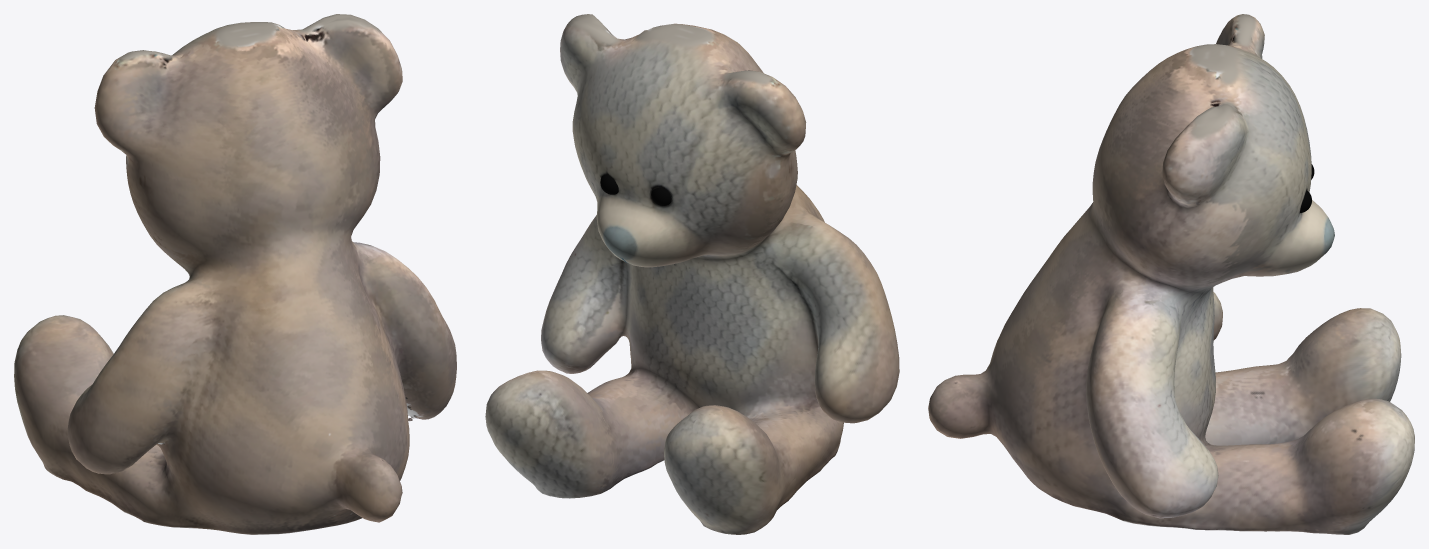
Rendered from teddy.glb.
3 renders of one model, left to right at view 1: azimuth 30°, elevation 25°; view 2: azimuth 150°, elevation 25°; view 3: azimuth 270°, elevation 25°, orthographic. The views are drawn at different scales.
Visible parts, largest first — view 1: scandy_pro_2020_07_02_t19_56_53_081_z1_2; view 2: scandy_pro_2020_07_02_t19_56_53_081_z1_2, PM3D_Sphere3D1_2_4; view 3: scandy_pro_2020_07_02_t19_56_53_081_z1_2.
Boxes of the visible parts, x1,y1,x2,y2 form: scandy_pro_2020_07_02_t19_56_53_081_z1_2: [14, 14, 456, 534]; scandy_pro_2020_07_02_t19_56_53_081_z1_2: [485, 14, 899, 534]; PM3D_Sphere3D1_2_4: [600, 175, 671, 205]; scandy_pro_2020_07_02_t19_56_53_081_z1_2: [928, 14, 1414, 534].
Bounding box in the file's own units: 0.2631 × 0.3095 × 0.3106.
2 materials, 2 textured.
